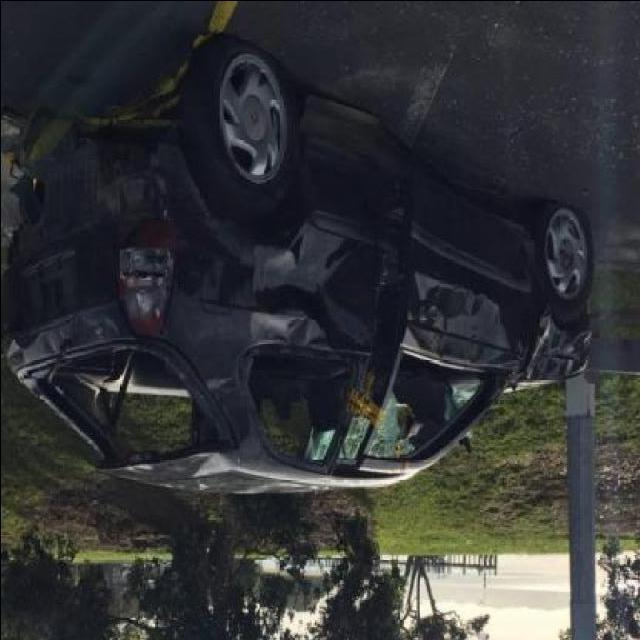Taillight-Damage: (110, 220, 171, 334)
doorouter-dent: (247, 160, 411, 360), (402, 164, 526, 364)
fender-dent: (530, 271, 588, 373)
